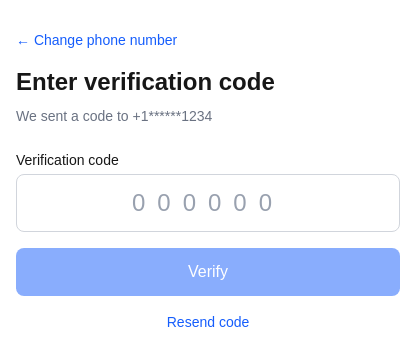
Scenario: VerifyCodePage › displays error message on failed resend
The image size is (417, 362).
Click the button "Resend code": (208, 322) [167,312,249,332]
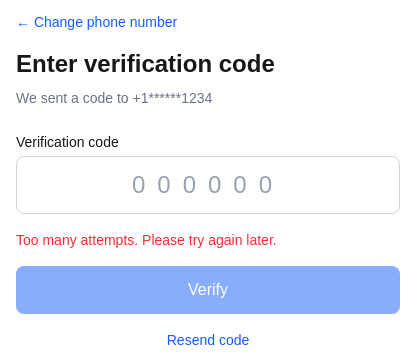
Check: the text "Too many attempts. Please try again later." is shown, box [16,232,277,248]
